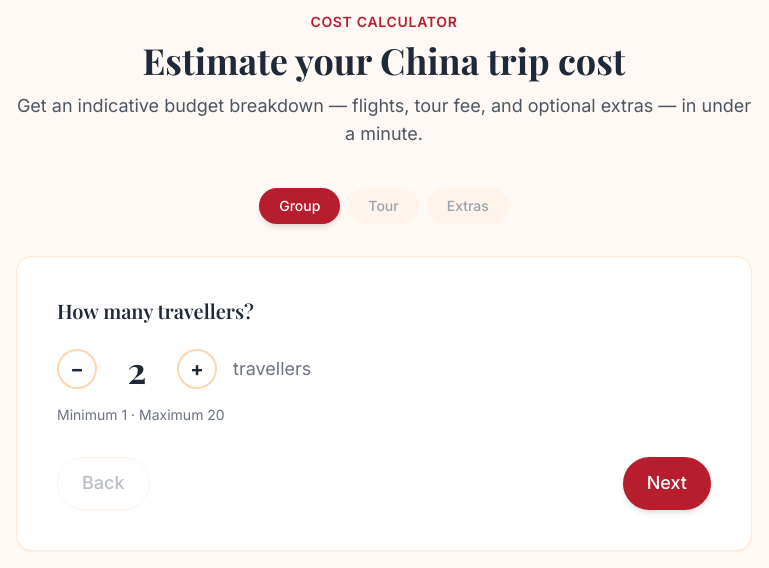
Test: CostCalculator component › does not go below 1 traveller
This screenshot has width=769, height=568.
// default is 2 → click decrease → reaches minimum 1
Click the button named "Decrease group size": (77, 369) x1=57 y1=349 x2=97 y2=389
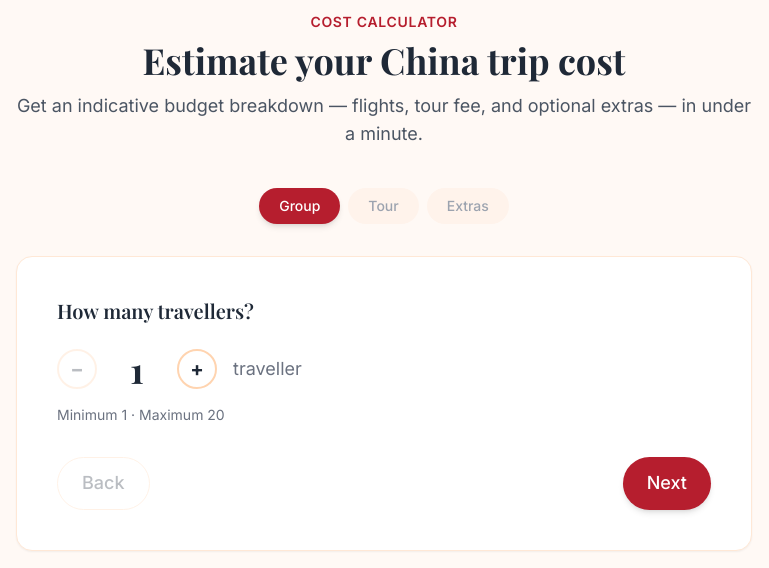
Now the text "1" is shown, box x1=130 y1=345 x2=144 y2=393
Now the button named "Decrease group size" is disabled, box x1=57 y1=349 x2=97 y2=389
